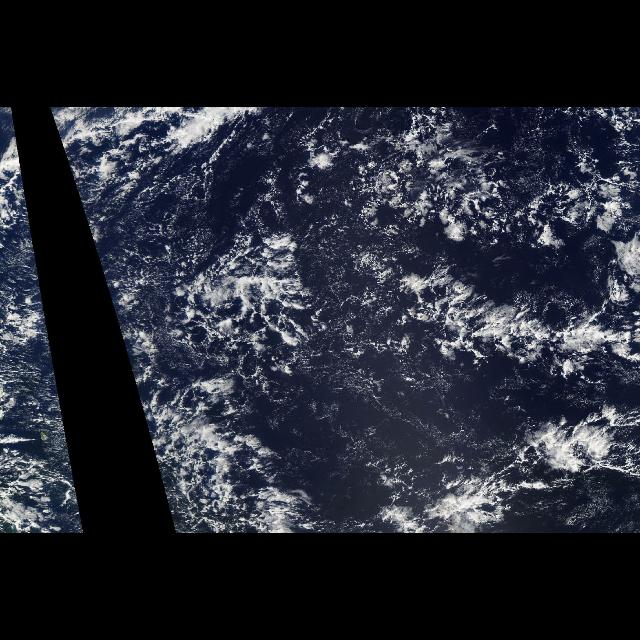Fish: (181, 228, 633, 398)
Gravel: (109, 117, 622, 523)
